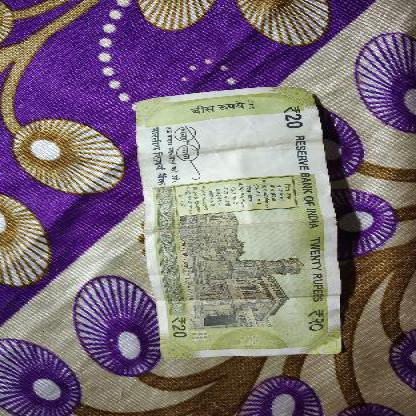New20Back: (139, 93, 336, 354)
